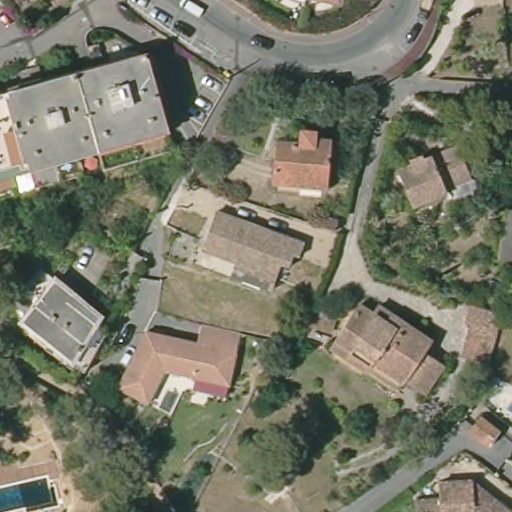pool: (1, 466, 58, 512)
